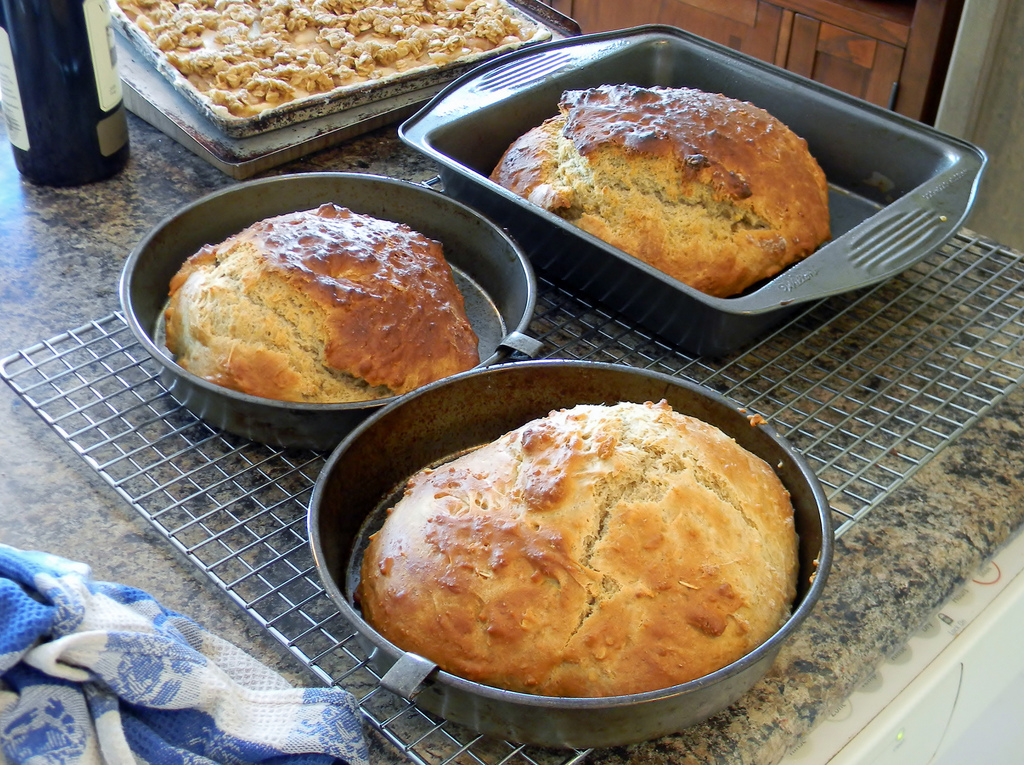slice of bread: (386, 398, 784, 679), (501, 79, 814, 257), (174, 210, 453, 389)
